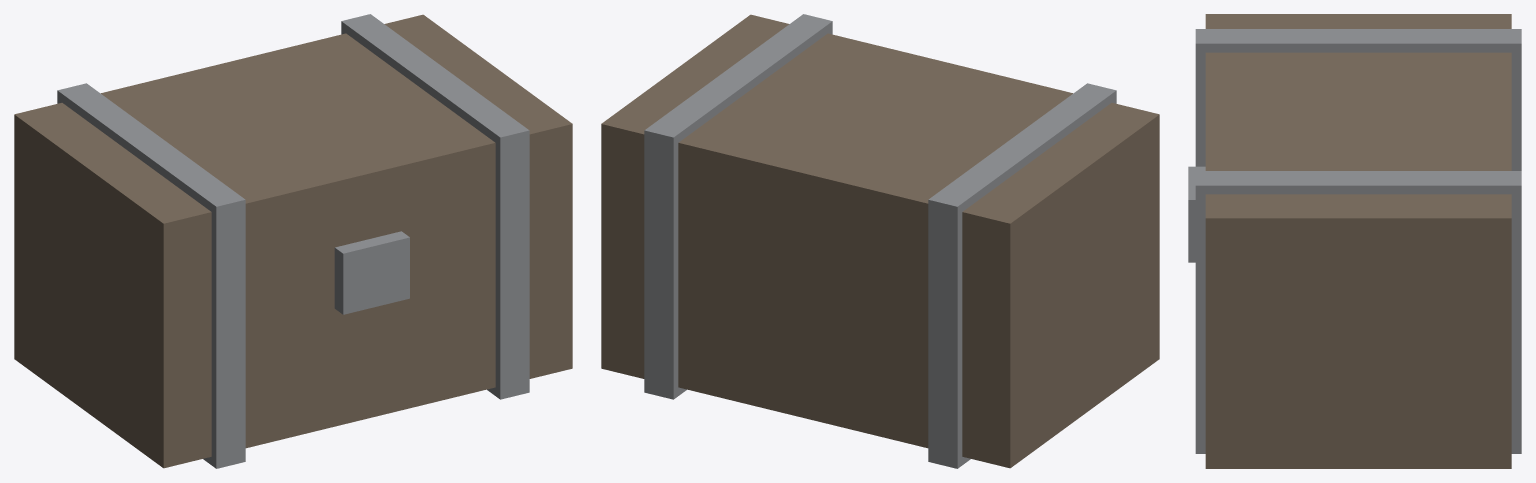
The model's file is Chest.fbx.
The picture shows the model from 3 angles, left to right: view 1: azimuth 30°, elevation 25°; view 2: azimuth 150°, elevation 25°; view 3: azimuth 270°, elevation 25°; orthographic projection. The views are drawn at different scales.
Visible parts, largest first — view 1: Chest; view 2: Chest; view 3: Chest.
Boxes of the visible parts, x1,y1,x2,y2 form: Chest: (14, 14, 572, 468); Chest: (601, 14, 1159, 468); Chest: (1188, 14, 1521, 468).
Size of the model in its own units: 98 by 60 by 67.5.
